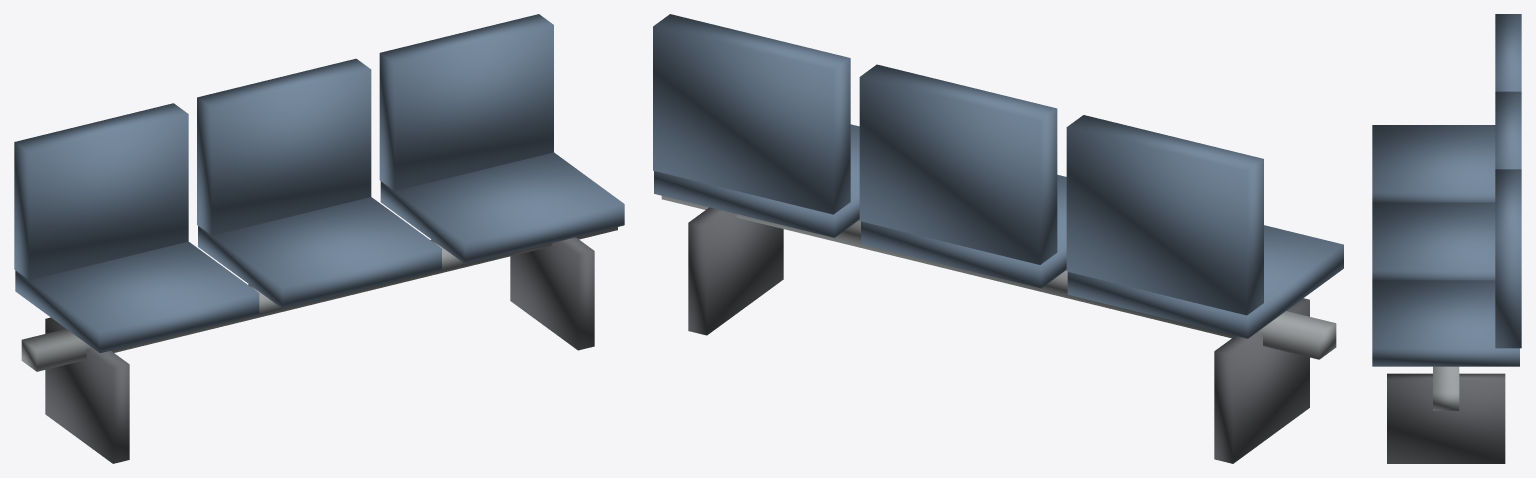
Rendered from waiting_chair_beam_row__squat.glb.
The picture shows the model from 3 angles, left to right: view 1: azimuth 30°, elevation 25°; view 2: azimuth 150°, elevation 25°; view 3: azimuth 270°, elevation 25°; orthographic projection. The views are drawn at different scales.
Parts seen in each view (by area): view 1: world; view 2: world; view 3: world.
Part boxes in pixels (x1=…): world: x1=14, y1=14, x2=624, y2=463; world: x1=653, y1=14, x2=1343, y2=463; world: x1=1372, y1=14, x2=1521, y2=463.
Size of the model in its own units: 1.92 by 0.8568 by 0.4914.
